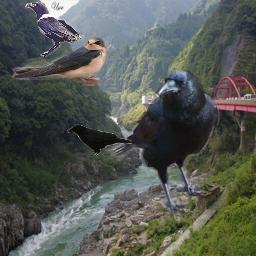Crow: (102, 62, 220, 222), (25, 2, 83, 57), (65, 123, 132, 156)
Swallow: (12, 34, 107, 86)
